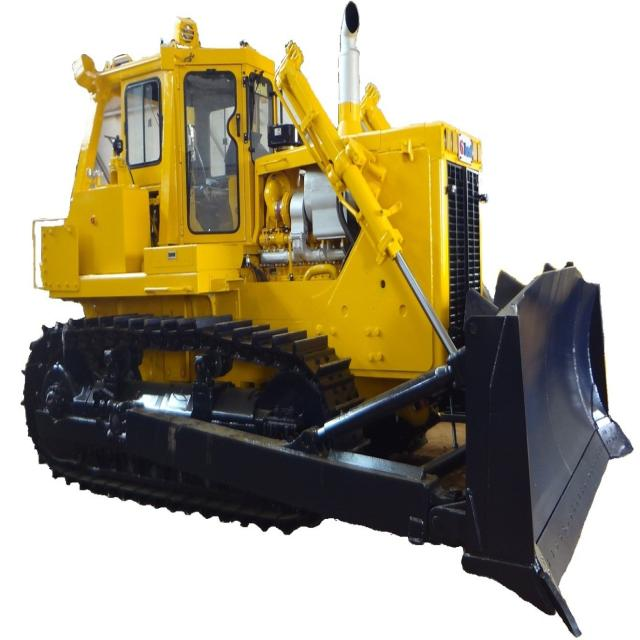buldozerpayloadergrader: (22, 4, 634, 638)
